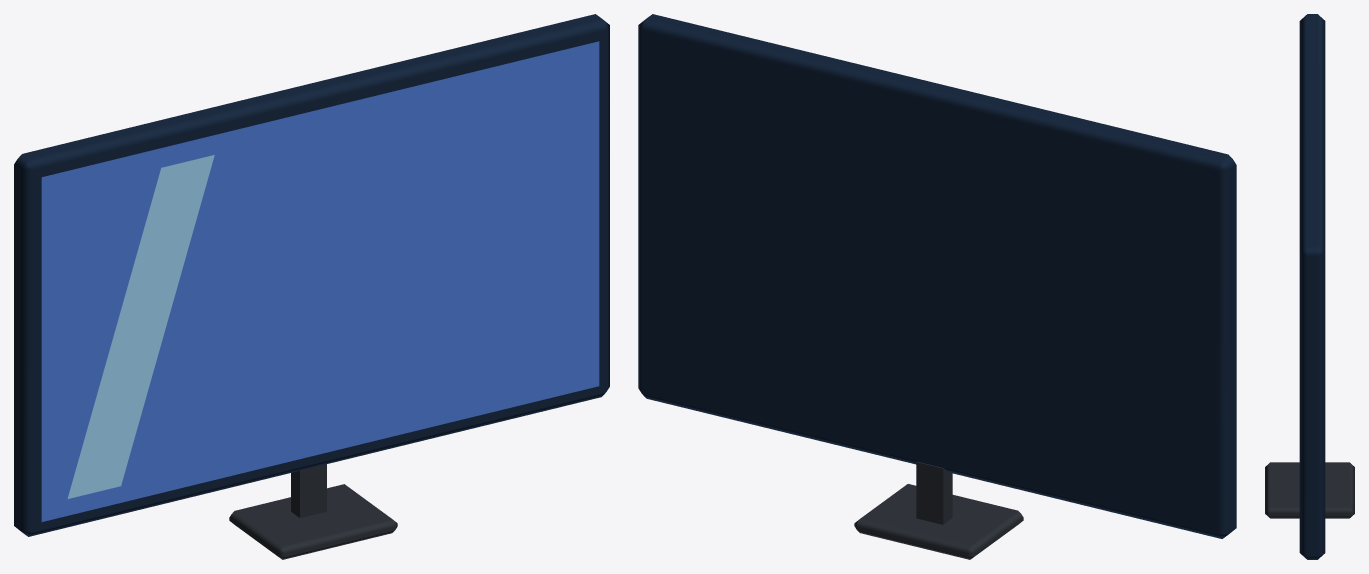
Rendered from CM_Product_Television.fbx.
3 renders of one model, left to right at view 1: azimuth 30°, elevation 25°; view 2: azimuth 150°, elevation 25°; view 3: azimuth 270°, elevation 25°, orthographic. The views are drawn at different scales.
Parts seen in each view (by area): view 1: Television; view 2: Television; view 3: Television.
Boxes of the visible parts, x1,y1,x2,y2 form: Television: (14, 14, 609, 559); Television: (638, 14, 1236, 559); Television: (1265, 14, 1354, 559).
Size of the model in its own units: 4.4 by 0.7 by 3.15.
1 material, 1 textured.
